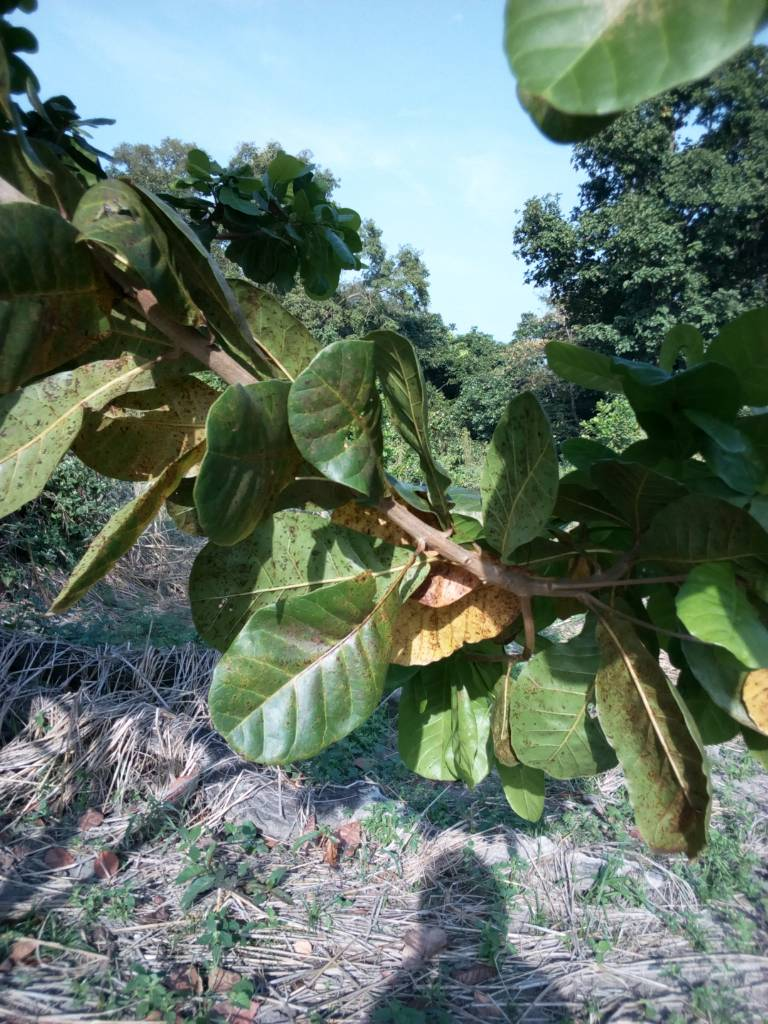Anthracnose: (202, 575, 404, 769), (602, 613, 710, 871), (1, 350, 154, 516), (1, 203, 116, 360), (510, 624, 608, 780), (479, 389, 568, 555)
